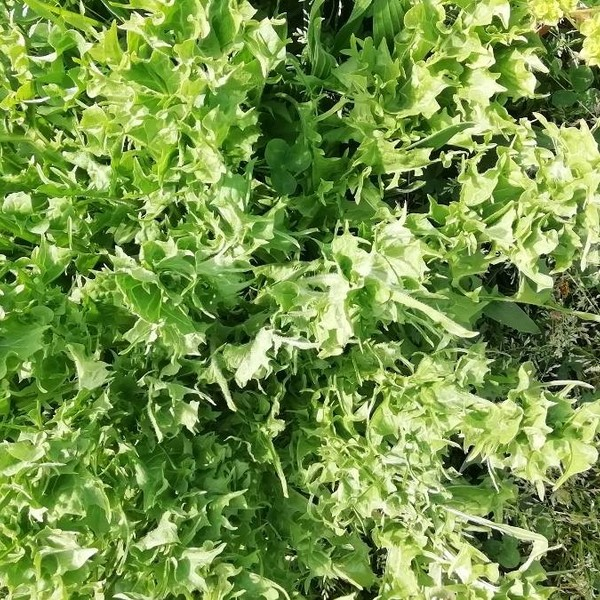obstacle: (46, 26, 340, 353), (209, 360, 529, 568)
